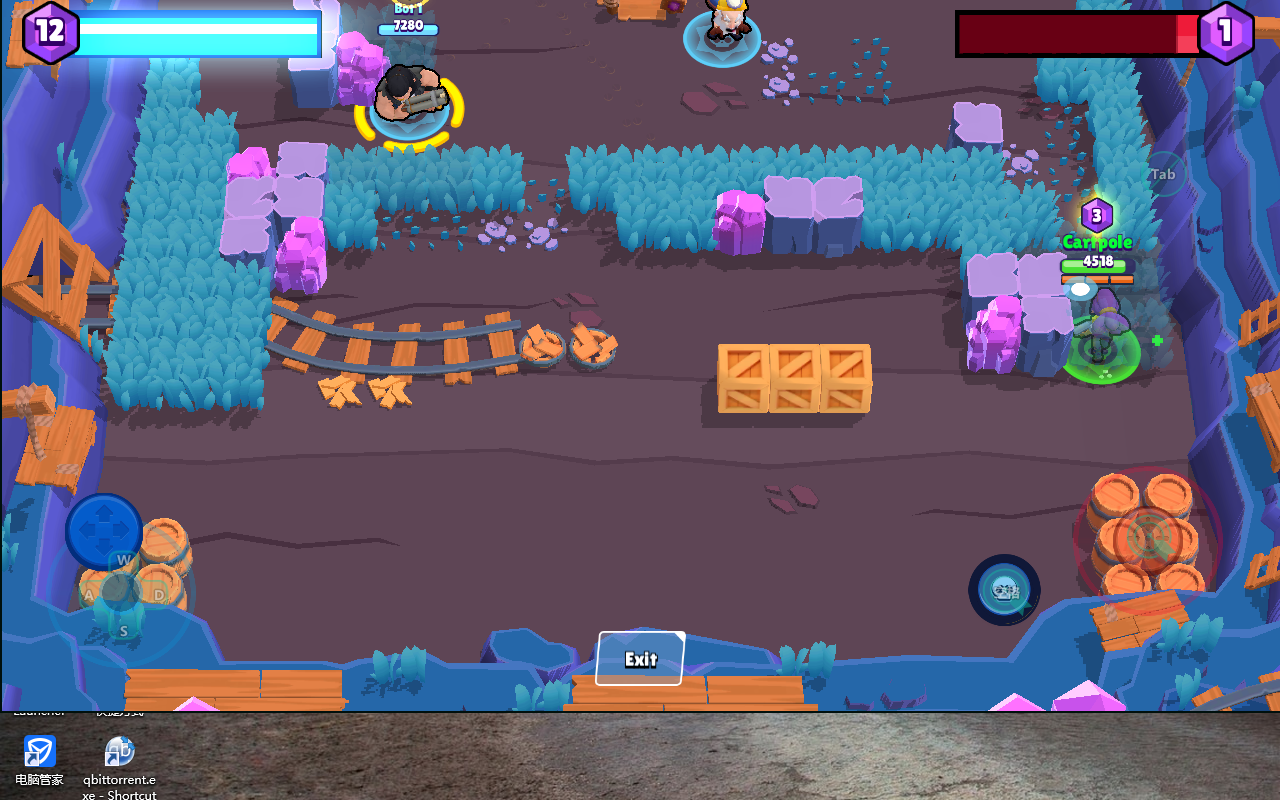current_player: (1061, 313, 1140, 385)
